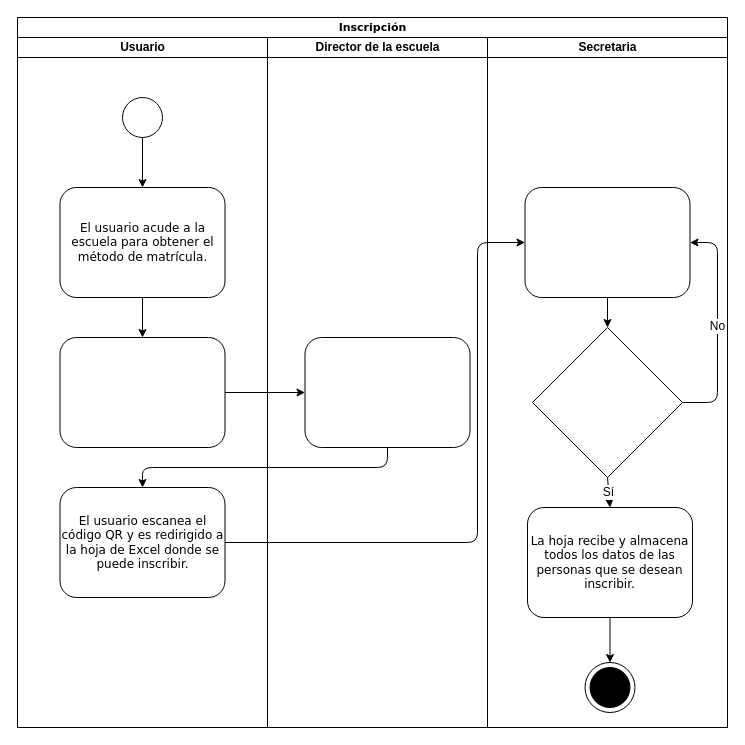
Image size: 745x745. Some labels were removed from this diagram. Each missing label, with the centre of its shape:
"El usuario llega a la escuela y pide información." goes at pixel 142 392.
"El usuario llena los datos que se le piden." goes at pixel 607 242.
"La escuela le facilita al estudiante un panfleto con un código QR." goes at pixel 387 392.
"Lo llena correctamente." goes at pixel 607 402.
